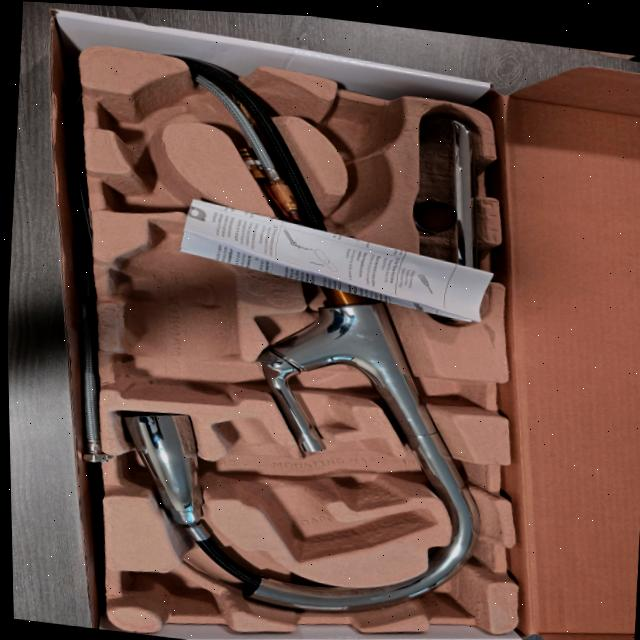1o: (119, 53, 478, 612)
2m: (211, 417, 437, 562)
3m: (112, 217, 237, 403)
4o: (414, 116, 484, 322)
5m: (325, 108, 393, 154)
6m: (96, 82, 193, 140)
7m: (106, 154, 223, 220)
8: (177, 197, 495, 322)
